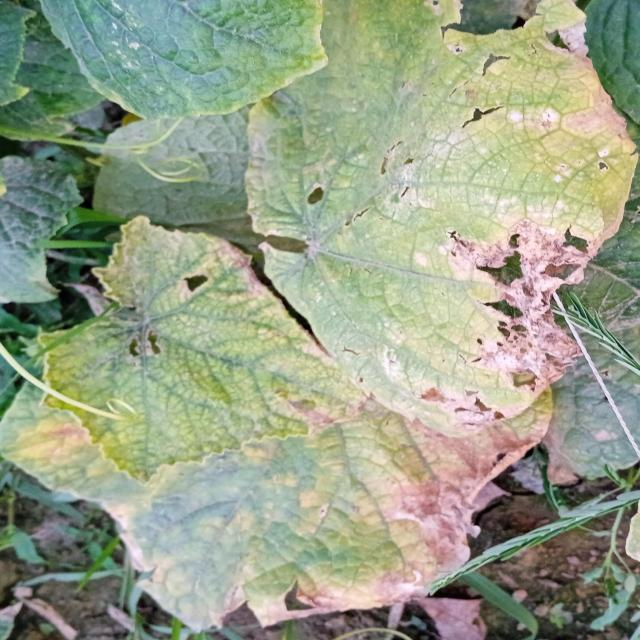cucumber_gummy: (20, 205, 606, 640), (229, 0, 640, 440)
